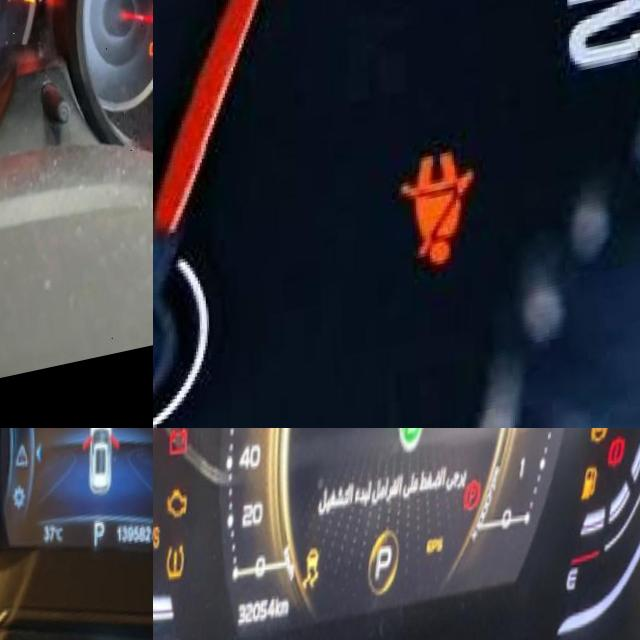Low fuel level: (573, 484, 597, 530)
Seat Belt: (389, 163, 476, 291)
